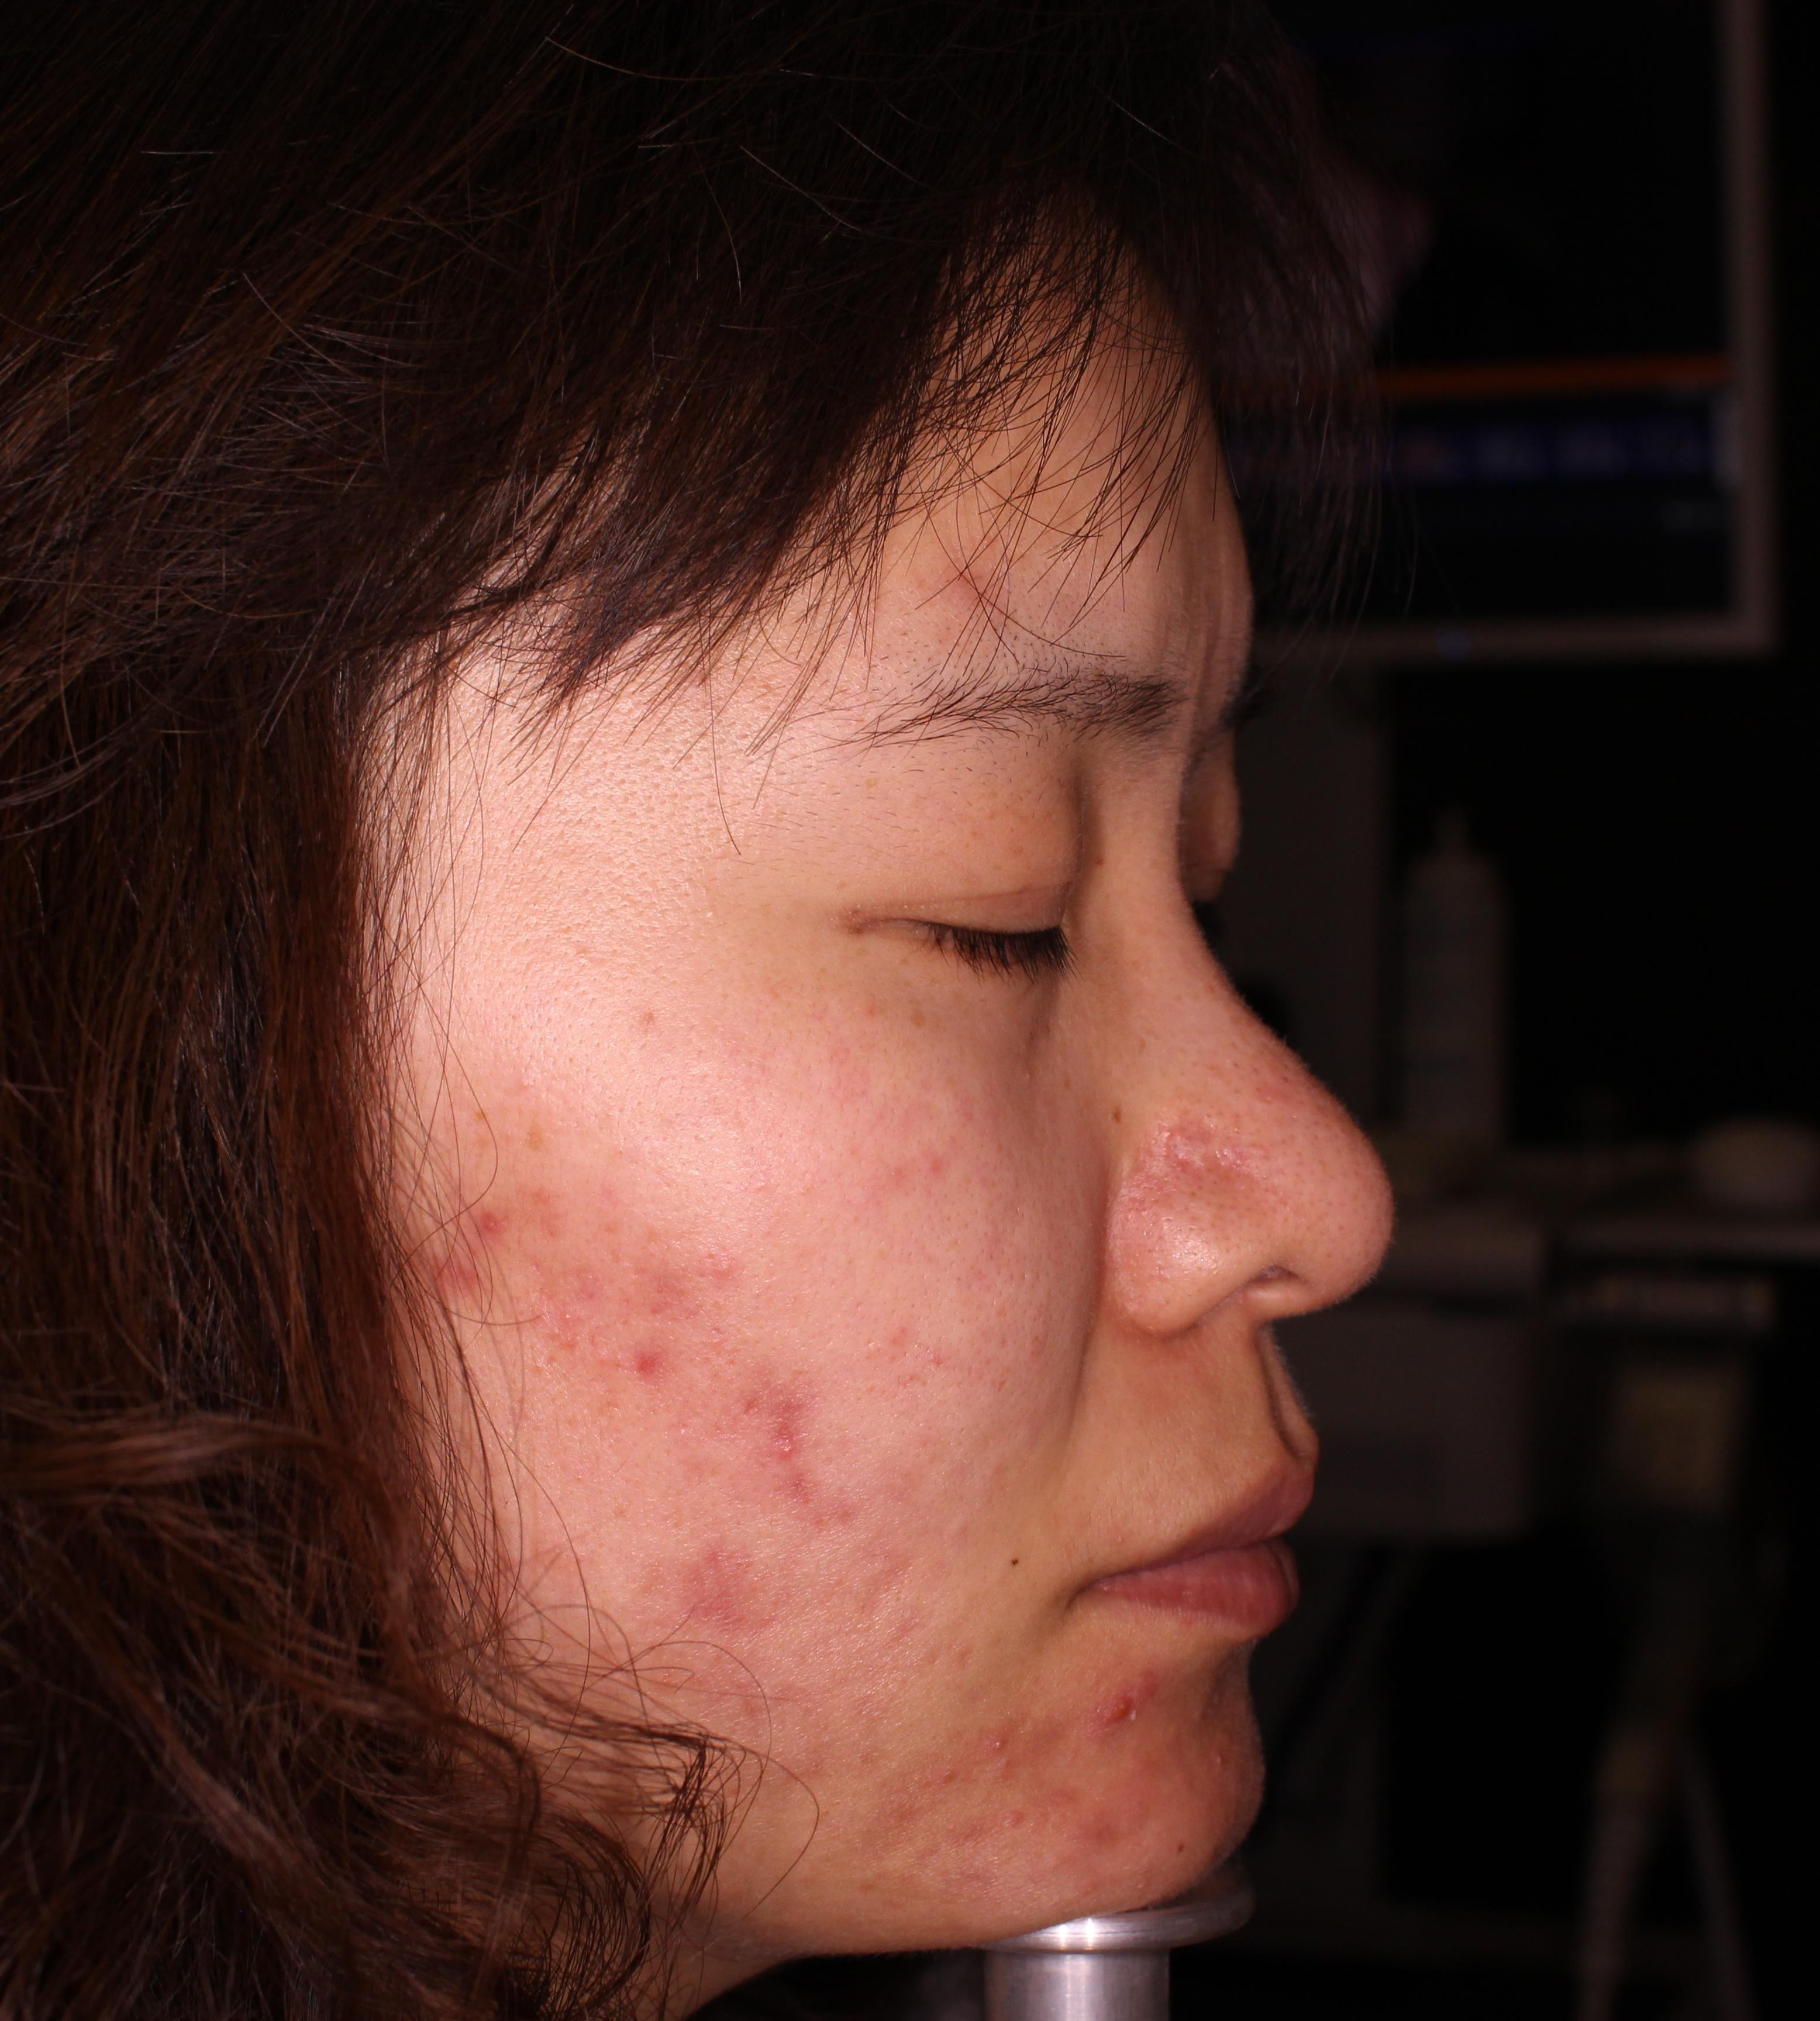fore: (1036, 1782, 1166, 1872), (673, 1545, 794, 1635), (592, 1334, 710, 1415), (418, 1217, 490, 1338), (754, 1410, 834, 1505), (1082, 1658, 1161, 1742), (979, 1710, 1072, 1777), (430, 1173, 566, 1213), (611, 1254, 731, 1294)
